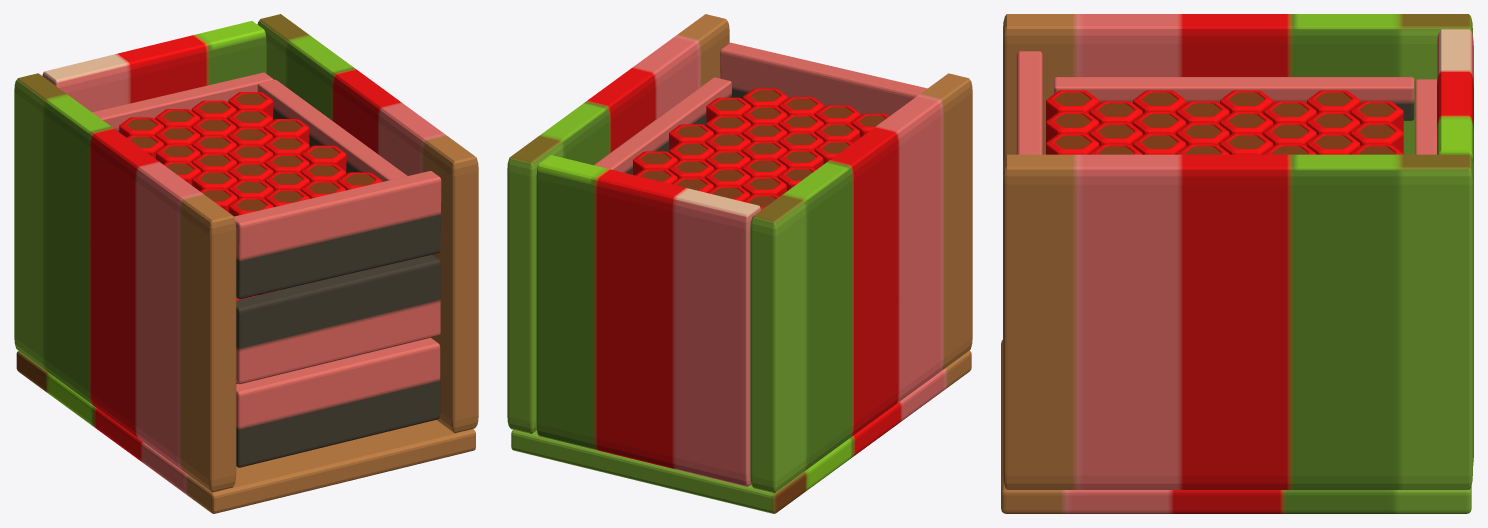
File: level_17.fbx
3 renders of one model, left to right at view 1: azimuth 30°, elevation 25°; view 2: azimuth 150°, elevation 25°; view 3: azimuth 270°, elevation 25°, orthographic. The views are drawn at different scales.
Parts seen in each view (by area): view 1: Cube.015, Cube.014, Cube.013, Cube.005, Cube.009, Cube.017, Cube.016, Cube.011, Cube.012, Cylinder.066, Cylinder.082, Cylinder.096 (+22 smaller); view 2: Cube.015, Cube.016, Cube.014, Cube.017, Cube.013, Cube.011, Cylinder.080, Cylinder.066, Cylinder.096, Cylinder.084, Cylinder.065, Cylinder.068 (+15 smaller); view 3: Cube.014, Cube.015, Cube.017, Cube.010, Cube.016, Cube.013, Cube.012, Cylinder.078, Cylinder.081, Cylinder.083, Cylinder.079, Cylinder.074 (+15 smaller).
Part boxes in pixels (box(x1,y1,x2,y2)): Cube.015: box(14, 73, 236, 492); Cube.014: box(257, 14, 478, 433); Cube.013: box(234, 171, 441, 299); Cube.005: box(236, 254, 440, 384); Cube.009: box(236, 337, 440, 467); Cube.017: box(16, 351, 475, 513); Cube.016: box(42, 21, 266, 112); Cube.011: box(257, 79, 407, 181); Cube.012: box(92, 72, 273, 131); Cylinder.066: box(301, 145, 346, 173); Cylinder.082: box(228, 92, 273, 117); Cylinder.096: box(264, 119, 309, 144); Cube.015: box(750, 73, 972, 493); Cube.016: box(536, 155, 760, 486); Cube.014: box(507, 14, 729, 433); Cube.017: box(511, 350, 971, 513); Cube.013: box(720, 42, 927, 116); Cube.011: box(594, 77, 731, 174); Cylinder.080: box(706, 97, 751, 123); Cylinder.066: box(669, 124, 713, 150); Cylinder.096: box(633, 151, 677, 175); Cylinder.084: box(742, 176, 786, 196); Cylinder.065: box(778, 149, 823, 169); Cylinder.068: box(815, 123, 860, 143); Cube.014: box(1003, 154, 1472, 489); Cube.015: box(1003, 14, 1472, 166); Cube.017: box(1001, 340, 1471, 513); Cube.010: box(1054, 77, 1414, 120); Cube.016: box(1437, 29, 1473, 465); Cube.013: box(1016, 51, 1042, 154); Cube.012: box(1415, 79, 1436, 154); Cylinder.078: box(1046, 111, 1099, 142); Cylinder.081: box(1350, 101, 1403, 132); Cylinder.083: box(1350, 122, 1403, 153); Cylinder.079: box(1046, 90, 1099, 121); Cylinder.074: box(1046, 133, 1099, 154).
Size of the model in its own units: 11.9 by 12.39 by 15.22.
